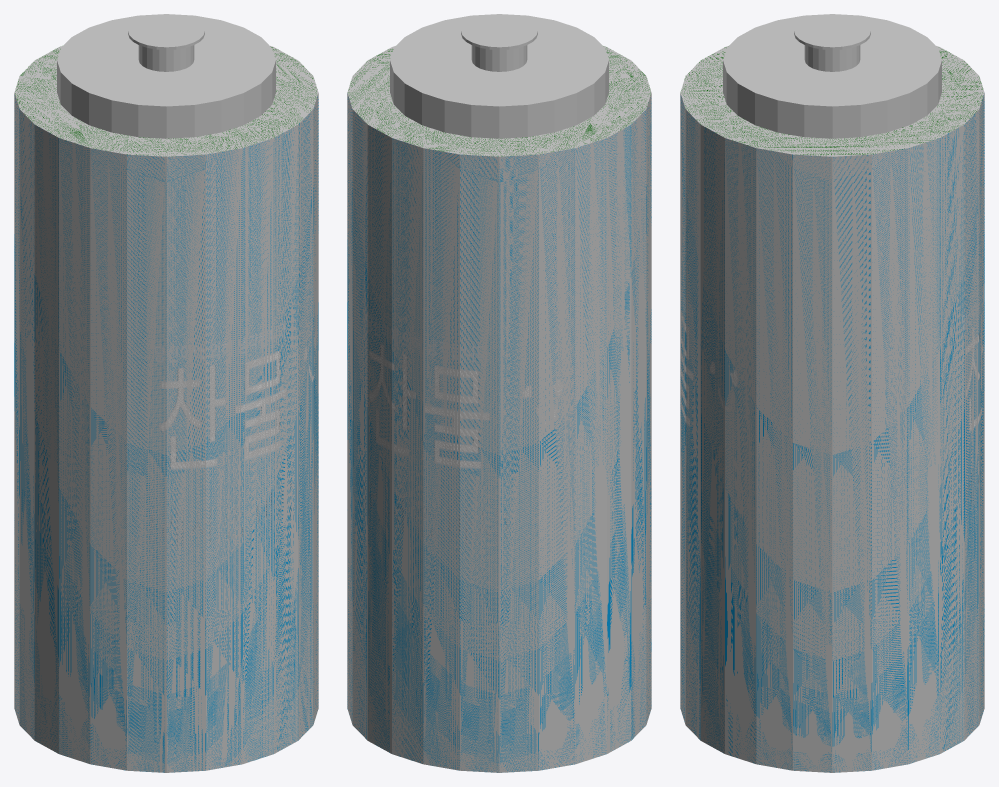
The picture shows the model from 3 angles, left to right: view 1: azimuth 30°, elevation 25°; view 2: azimuth 150°, elevation 25°; view 3: azimuth 270°, elevation 25°; orthographic projection.
Parts seen in each view (by area): view 1: mesh1_mesh1-geometry, mesh2_mesh2-geometry; view 2: mesh1_mesh1-geometry, mesh2_mesh2-geometry; view 3: mesh1_mesh1-geometry, mesh2_mesh2-geometry.
Boxes of the visible parts, x1,y1,x2,y2 form: mesh1_mesh1-geometry: (14, 46, 318, 772); mesh2_mesh2-geometry: (57, 14, 275, 138); mesh1_mesh1-geometry: (347, 46, 651, 772); mesh2_mesh2-geometry: (390, 14, 608, 138); mesh1_mesh1-geometry: (680, 46, 984, 772); mesh2_mesh2-geometry: (723, 14, 941, 138).
Bounding box in the file's own units: 0.3526 × 0.8668 × 0.3526.
